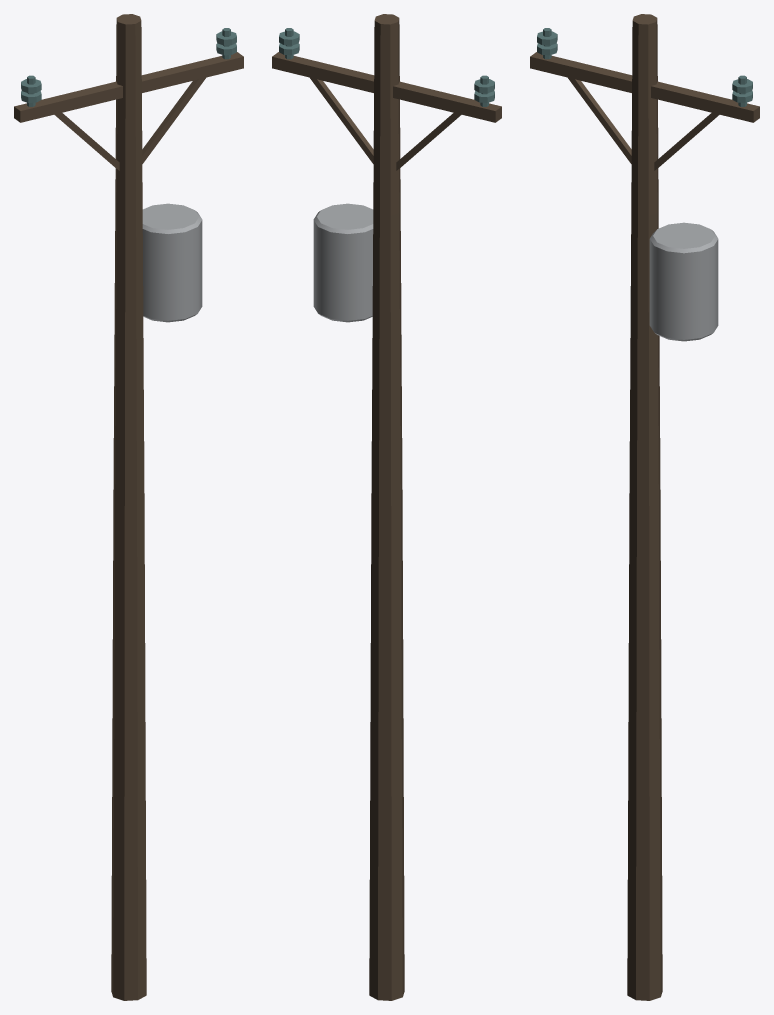
Rendered from dist_pole.glb.
The picture shows the model from 3 angles, left to right: view 1: azimuth 30°, elevation 25°; view 2: azimuth 150°, elevation 25°; view 3: azimuth 330°, elevation 25°; orthographic projection.
Parts seen in each view (by area): view 1: pole, insulators; view 2: pole, insulators; view 3: pole, insulators.
Part boxes in pixels (left/top/right/bottom): pole: left=14, top=14, right=243, bottom=1000; insulators: left=21, top=28, right=236, bottom=106; pole: left=272, top=14, right=501, bottom=1000; insulators: left=279, top=28, right=494, bottom=106; pole: left=530, top=14, right=759, bottom=1000; insulators: left=537, top=28, right=752, bottom=106.
Size of the model in its own units: 2.4 by 10 by 0.6397.
